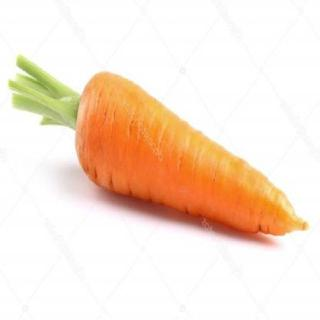carrot: (9, 50, 309, 236)
